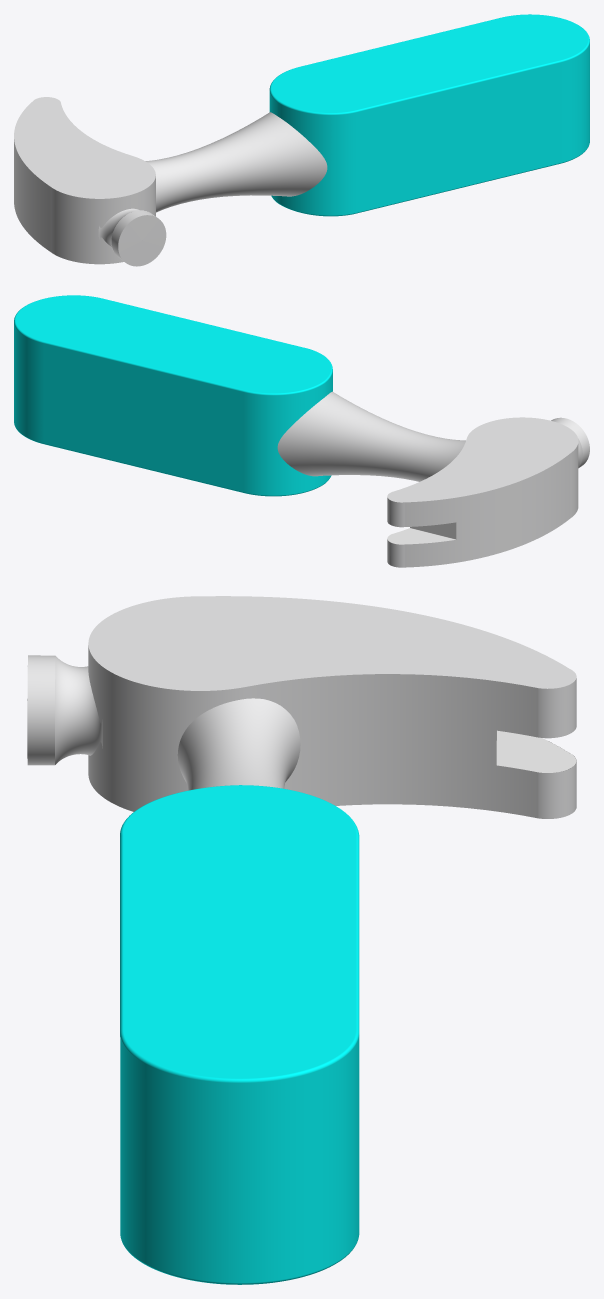
File: study-hammer.glb
3 views of the same model, one above another, from view 1: azimuth 30°, elevation 25°; view 2: azimuth 150°, elevation 25°; view 3: azimuth 270°, elevation 25° (orthographic). The views are drawn at different scales.
Visible parts, largest first — view 1: part-08, part-06, part-07, part-03, part-02, part-01; view 2: part-08, part-06, part-07, part-04, part-02; view 3: part-08, part-06, part-07, part-01, part-02, part-04.
Part boxes in pixels (bbox=[...]): part-08: bbox=[269, 14, 589, 216]; part-06: bbox=[14, 97, 155, 264]; part-07: bbox=[145, 112, 327, 212]; part-03: bbox=[118, 215, 166, 266]; part-02: bbox=[111, 210, 155, 266]; part-01: bbox=[98, 208, 139, 246]; part-08: bbox=[14, 295, 332, 496]; part-06: bbox=[387, 417, 578, 567]; part-07: bbox=[277, 391, 465, 481]; part-04: bbox=[387, 522, 456, 544]; part-02: bbox=[551, 417, 589, 468]; part-08: bbox=[120, 785, 359, 1284]; part-06: bbox=[88, 596, 576, 818]; part-07: bbox=[177, 698, 300, 790]; part-01: bbox=[55, 656, 102, 764]; part-02: bbox=[27, 655, 55, 765]; part-04: bbox=[496, 730, 576, 772].
Size of the model in its own units: 367 by 67.01 by 162.
